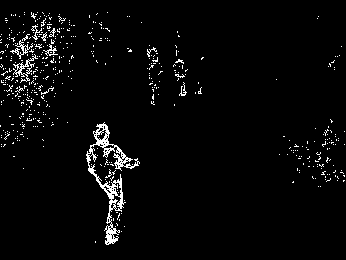person: (85, 120, 140, 248), (171, 55, 189, 98)
